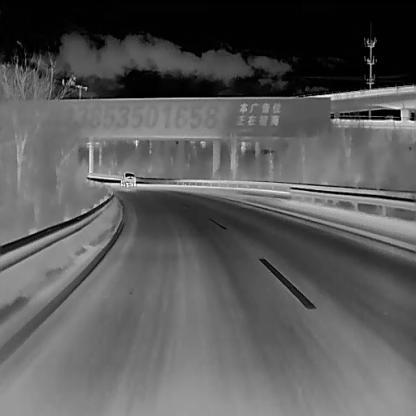car: (120, 172, 135, 186)
